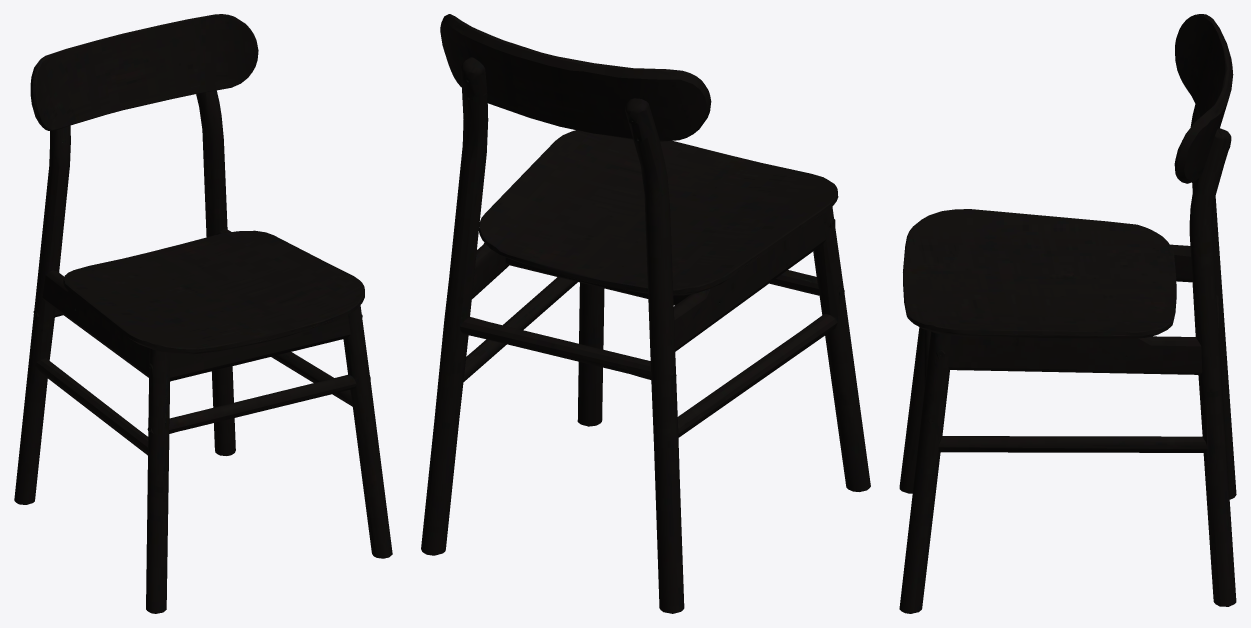
The picture shows the model from 3 angles, left to right: view 1: azimuth 30°, elevation 25°; view 2: azimuth 150°, elevation 25°; view 3: azimuth 270°, elevation 25°; orthographic projection. The views are drawn at different scales.
Parts seen in each view (by area): view 1: ProcessedMeshNode; view 2: ProcessedMeshNode; view 3: ProcessedMeshNode.
Boxes of the visible parts, x1,y1,x2,y2 form: ProcessedMeshNode: (14, 14, 392, 613); ProcessedMeshNode: (421, 14, 870, 613); ProcessedMeshNode: (899, 14, 1236, 613).
Size of the model in its own units: 0.4576 by 0.7993 by 0.5022.
Materials: 1 (1 with a texture image).
